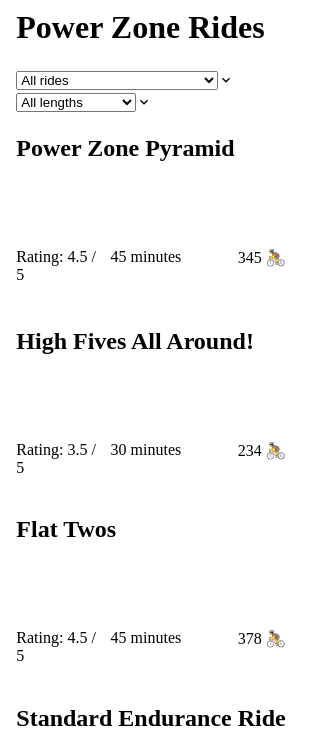
it: it renders updated list when length selected from dropdown
Expected: the heading "Power Zone Pyramid" is shown, x1=16 y1=135 x2=234 y2=161
Select "20 minutes" in the dropdown with test id "length-dropdown" at (76, 102), box x1=16 y1=93 x2=136 y2=112
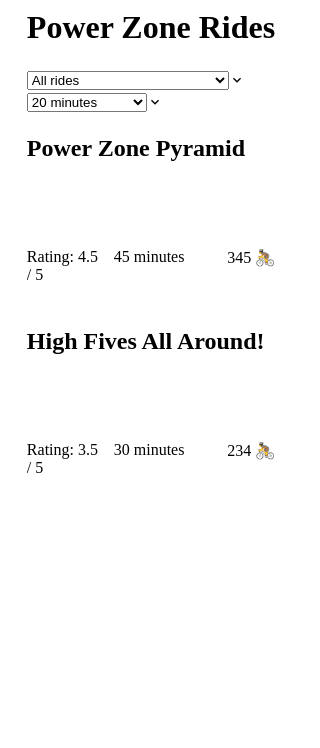
Expected: the heading "Power Zone Pyramid" is shown, x1=27 y1=135 x2=275 y2=162
Expected: the number of elements with test id "ride-description-card" is 2, x1=27 y1=115 x2=275 y2=300; x1=27 y1=308 x2=275 y2=492
